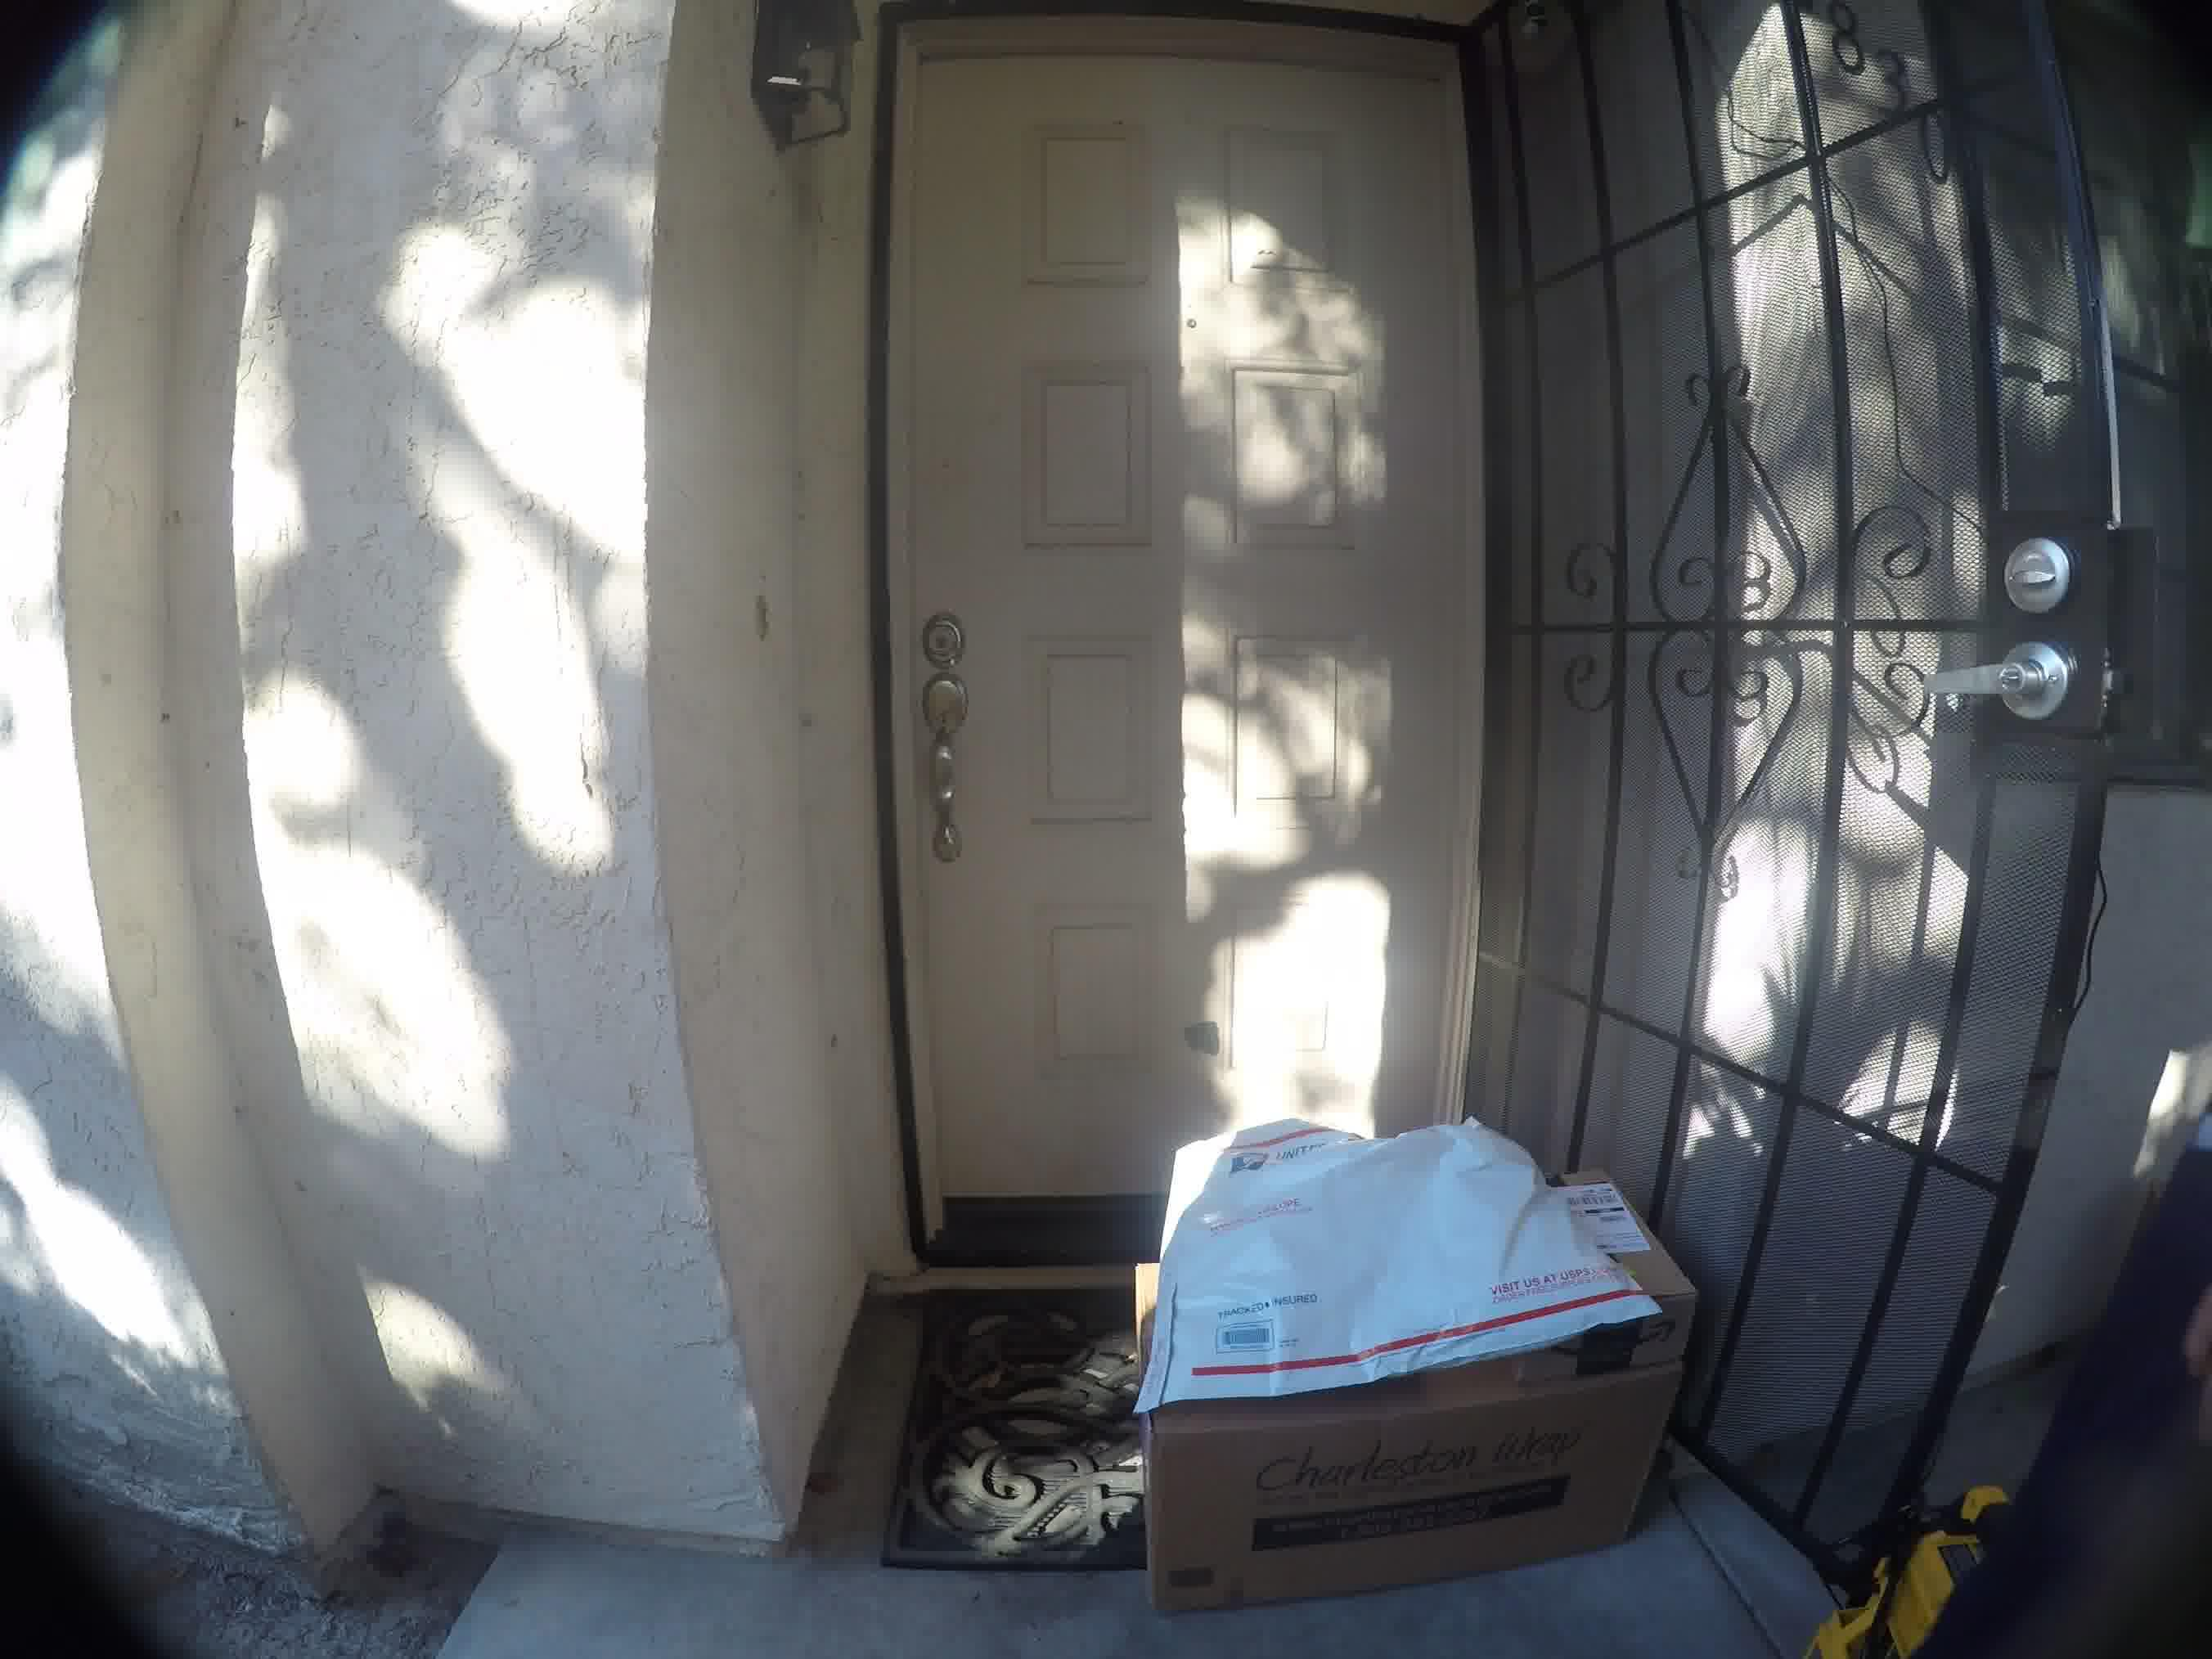box: (1120, 1419, 1684, 1595)
plastic_bag: (1148, 1133, 1646, 1396)
